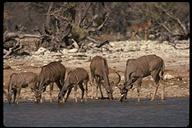antelope: (116, 53, 168, 106), (87, 50, 122, 101), (31, 60, 65, 109), (56, 67, 89, 104), (4, 69, 38, 104)
water: (5, 105, 187, 125)
